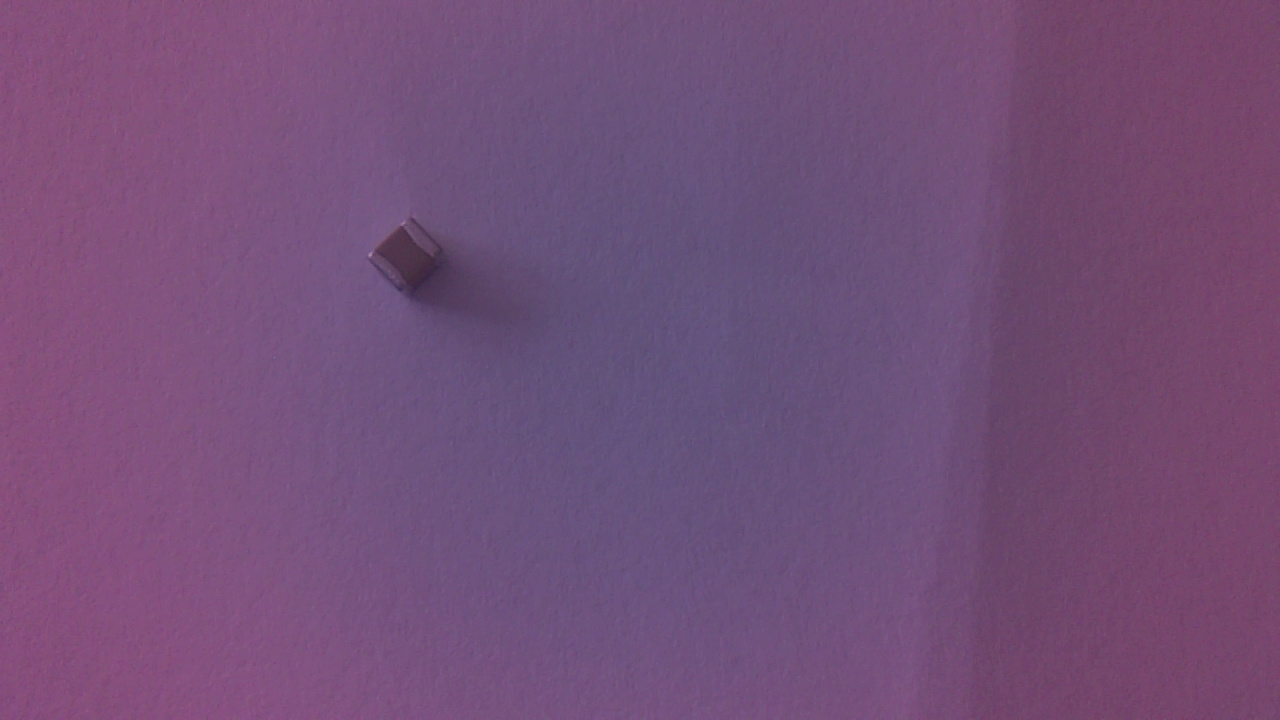Condensator: (370, 223, 451, 302)
